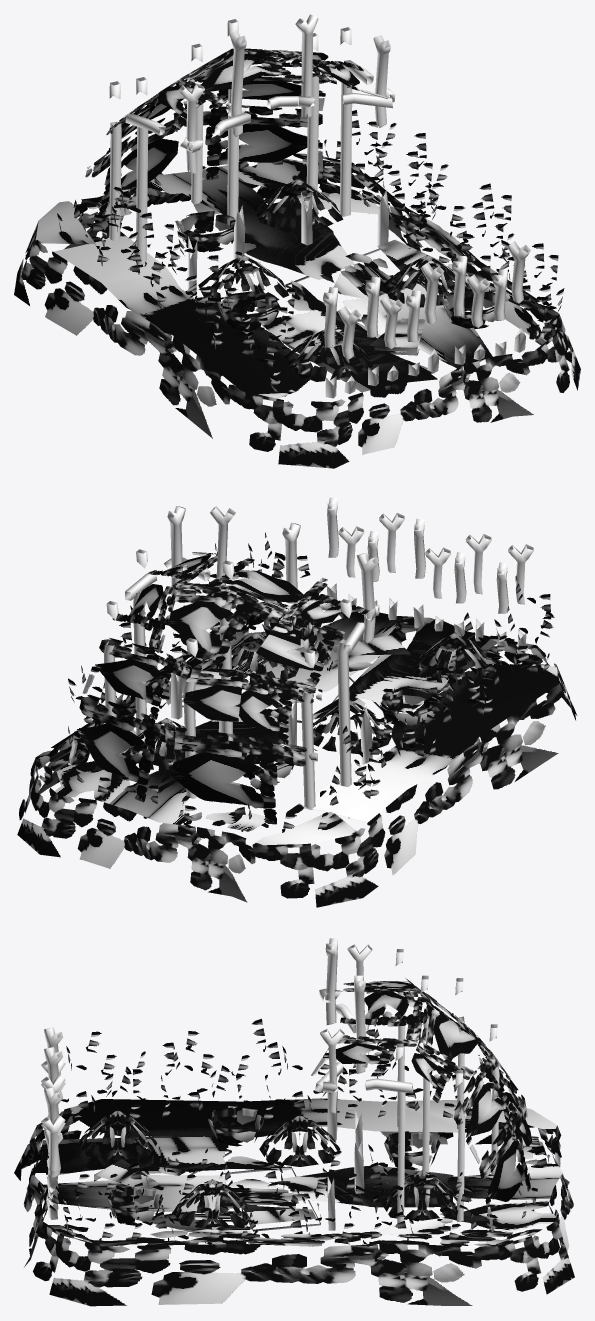
The model's file is corral.dae.
3 views of the same model, one above another, from view 1: azimuth 30°, elevation 25°; view 2: azimuth 150°, elevation 25°; view 3: azimuth 270°, elevation 25° (orthographic). The views are drawn at different scales.
Visible parts, largest first — view 1: corral; view 2: corral; view 3: corral.
Part boxes in pixels (x1,y1,x2,y2): corral: [14, 14, 580, 468]; corral: [17, 497, 577, 907]; corral: [14, 938, 574, 1306].
Bounding box in the file's own units: 12.37 × 18.15 × 9.44.
